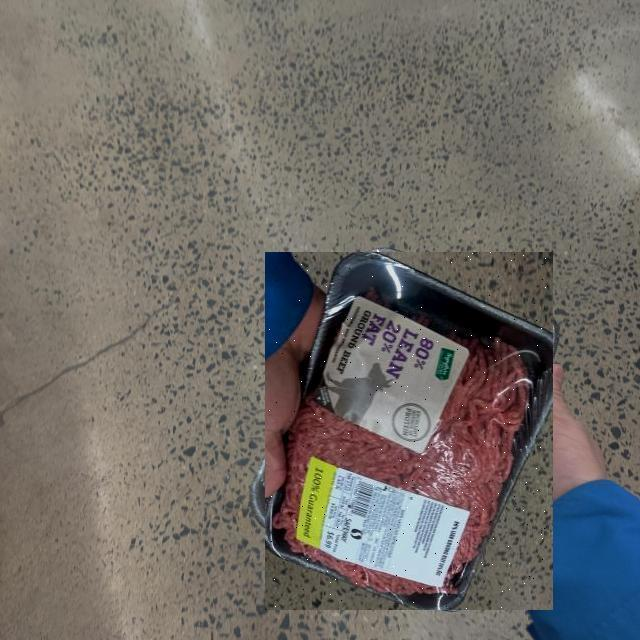Meat: (265, 252, 553, 610)
